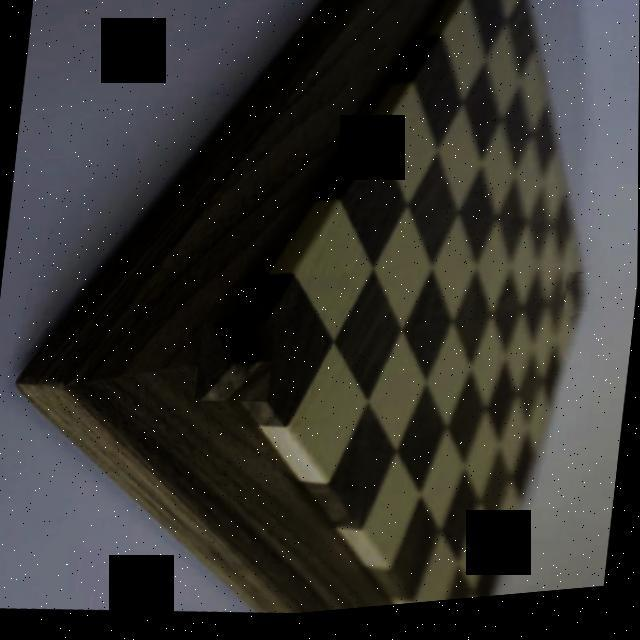chess-table-corners: (194, 321, 275, 412), (562, 280, 605, 330)
